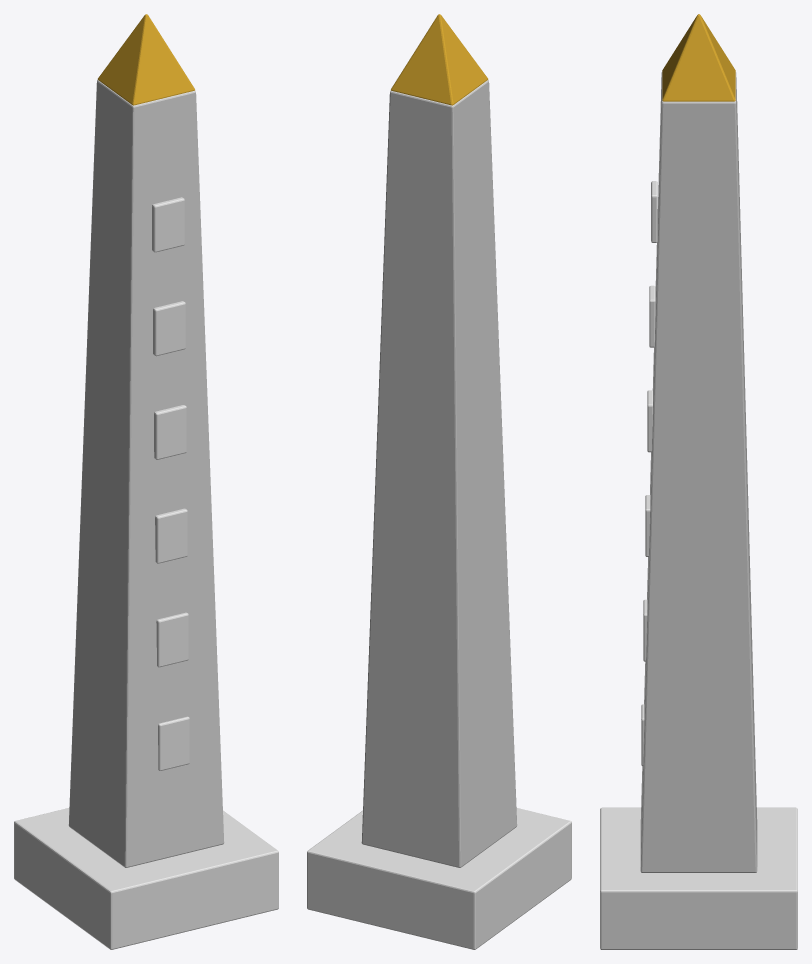
The model's file is egipto_obelisk.fbx.
The picture shows the model from 3 angles, left to right: view 1: azimuth 30°, elevation 25°; view 2: azimuth 150°, elevation 25°; view 3: azimuth 270°, elevation 25°; orthographic projection.
Parts seen in each view (by area): view 1: egipto_obelisk; view 2: egipto_obelisk; view 3: egipto_obelisk.
Part boxes in pixels (left/top/right/bottom): egipto_obelisk: left=14, top=14, right=278, bottom=949; egipto_obelisk: left=307, top=14, right=571, bottom=949; egipto_obelisk: left=600, top=14, right=797, bottom=949.
Bounding box in the file's own units: 1.2 × 5.98 × 1.2.
